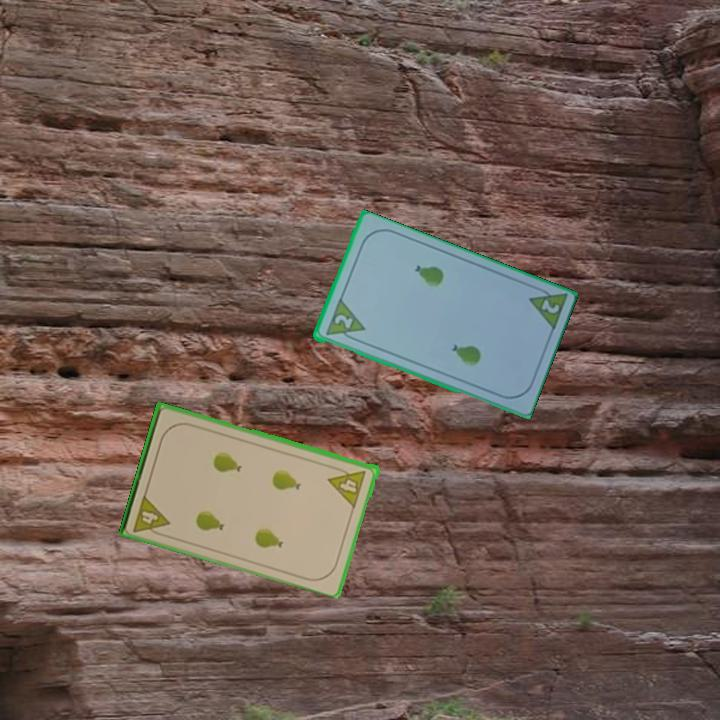2p: (524, 282, 569, 335), (322, 297, 367, 346)
4p: (129, 491, 173, 540), (326, 462, 369, 509)
